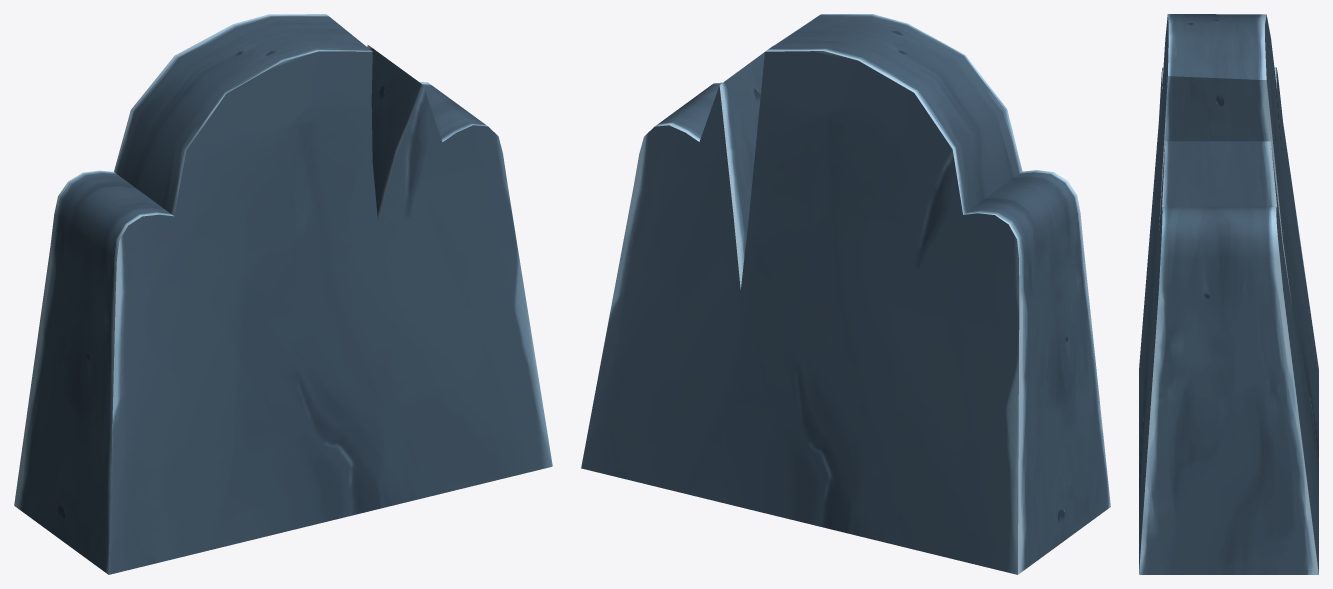
The model's file is SM_PROP_gravestone_v02_02.fbx.
3 renders of one model, left to right at view 1: azimuth 30°, elevation 25°; view 2: azimuth 150°, elevation 25°; view 3: azimuth 270°, elevation 25°, orthographic. The views are drawn at different scales.
Parts seen in each view (by area): view 1: SM_PROP_gravestone_v02_02; view 2: SM_PROP_gravestone_v02_02; view 3: SM_PROP_gravestone_v02_02.
Boxes of the visible parts, x1,y1,x2,y2 form: SM_PROP_gravestone_v02_02: [14, 14, 552, 574]; SM_PROP_gravestone_v02_02: [581, 14, 1110, 574]; SM_PROP_gravestone_v02_02: [1139, 14, 1318, 574].
Size of the model in its own units: 118 by 116 by 43.58.
